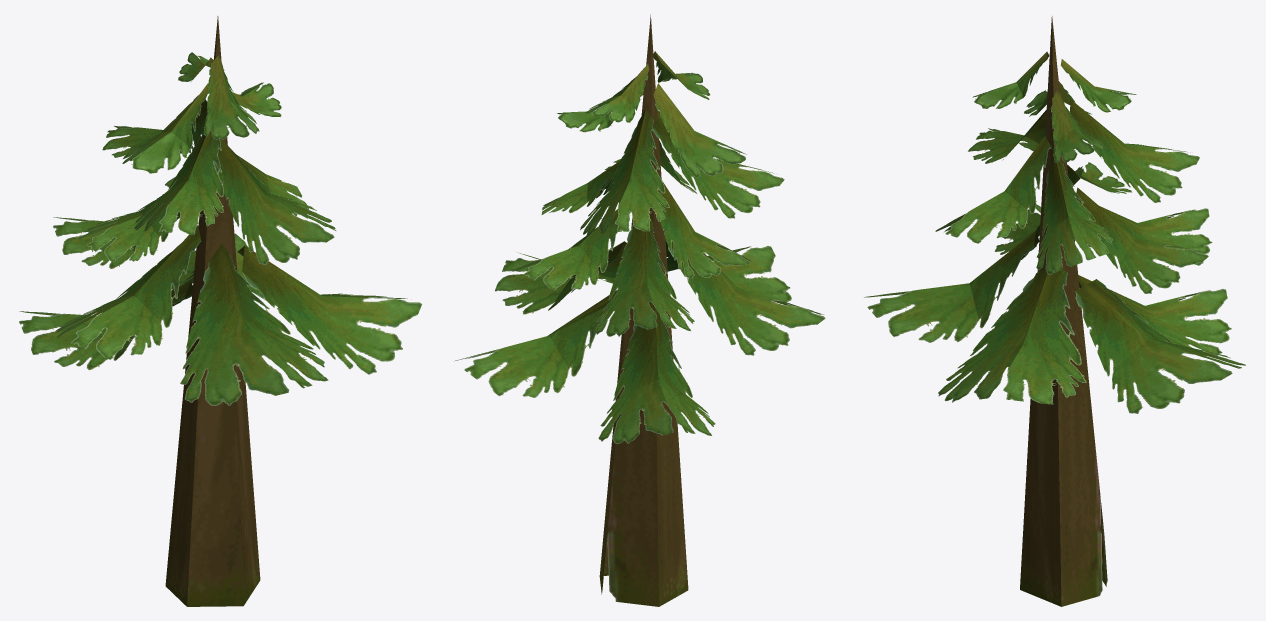
The model's file is plant_lobbynew02_zhiwu_shu02.FBX.
3 views of the same model, side by side, from view 1: azimuth 30°, elevation 25°; view 2: azimuth 150°, elevation 25°; view 3: azimuth 270°, elevation 25° (orthographic).
Parts seen in each view (by area): view 1: plant_lobbynew02_zhiwu_shu02; view 2: plant_lobbynew02_zhiwu_shu02; view 3: plant_lobbynew02_zhiwu_shu02.
Part boxes in pixels (x1,y1,x2,y2): plant_lobbynew02_zhiwu_shu02: (19, 16, 421, 606); plant_lobbynew02_zhiwu_shu02: (455, 14, 825, 606); plant_lobbynew02_zhiwu_shu02: (864, 16, 1245, 606).
Bounding box in the file's own units: 360 × 361 × 579.
